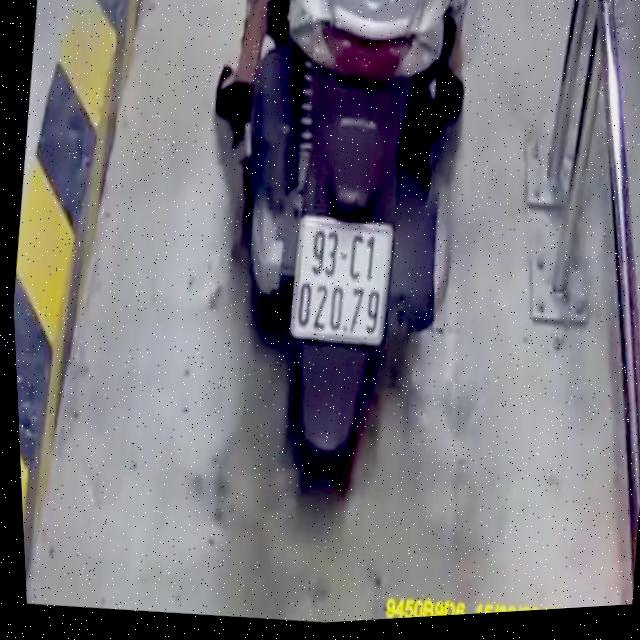motorcycle: (179, 0, 512, 528)
plate: (275, 201, 405, 354)
